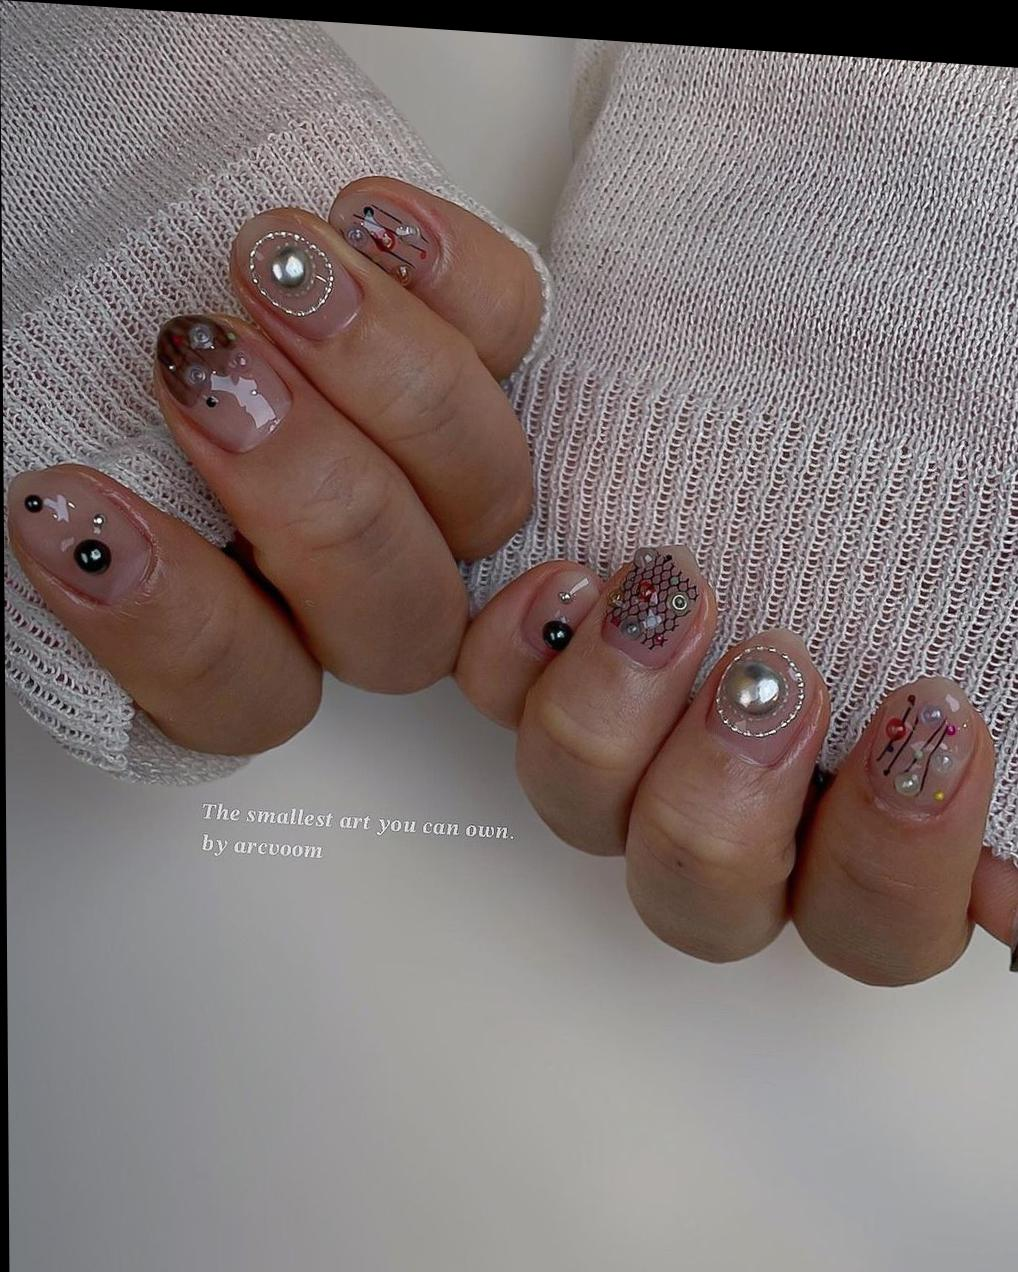nail: (5, 457, 159, 614), (152, 307, 293, 458), (227, 201, 366, 346), (697, 622, 827, 774), (863, 671, 979, 821), (597, 537, 709, 673), (327, 171, 448, 292), (523, 565, 601, 660)
